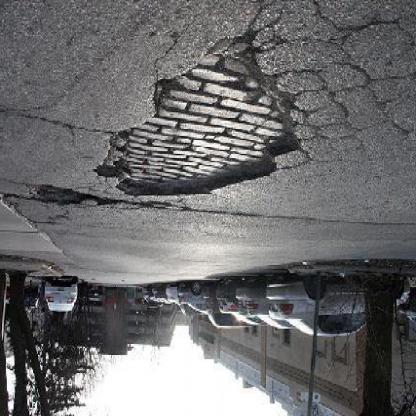pothole: (98, 32, 310, 202), (30, 184, 94, 209)
